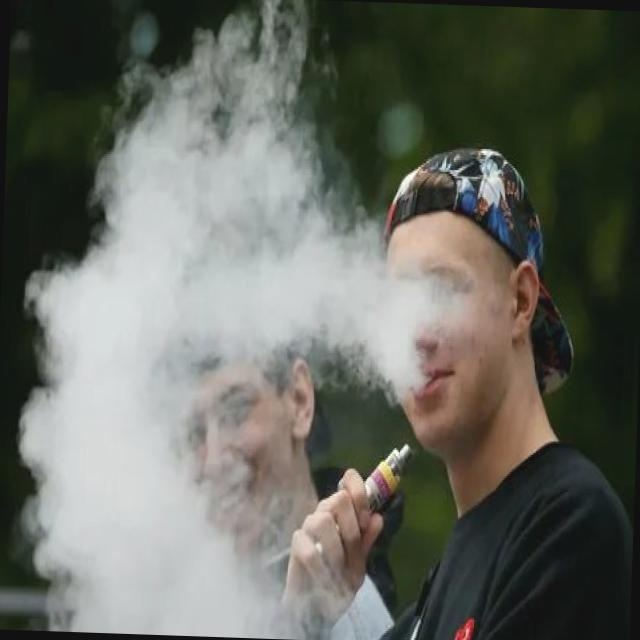cigarette: (306, 436, 420, 575)
